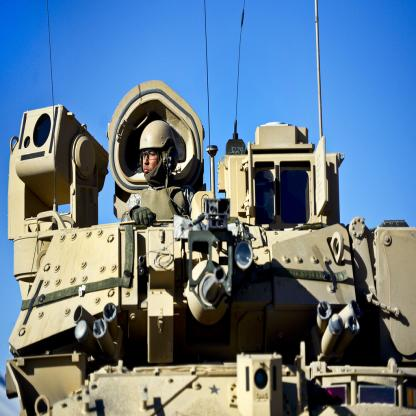Helmet: (136, 118, 186, 212)
